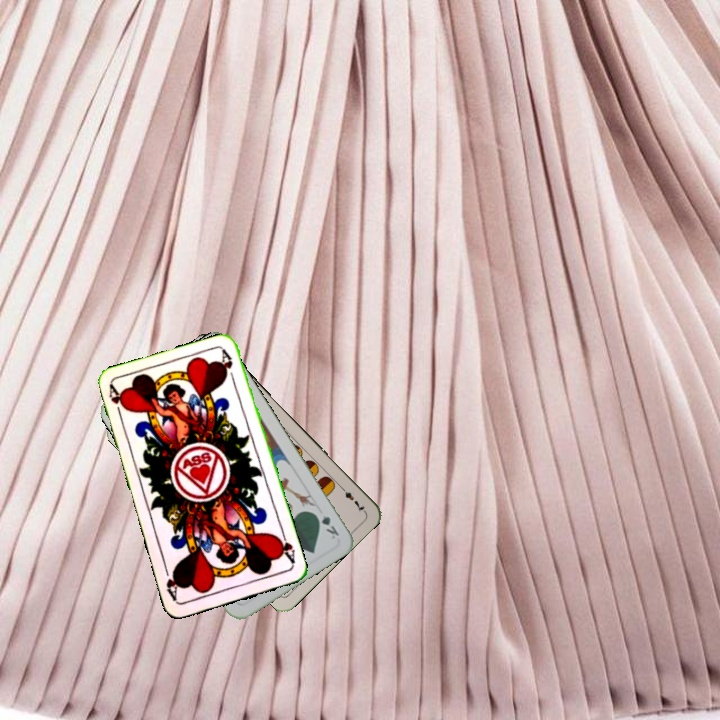E7: (336, 482, 368, 515)
GK: (310, 508, 342, 542)
HA: (272, 527, 298, 567), (105, 382, 129, 422)
